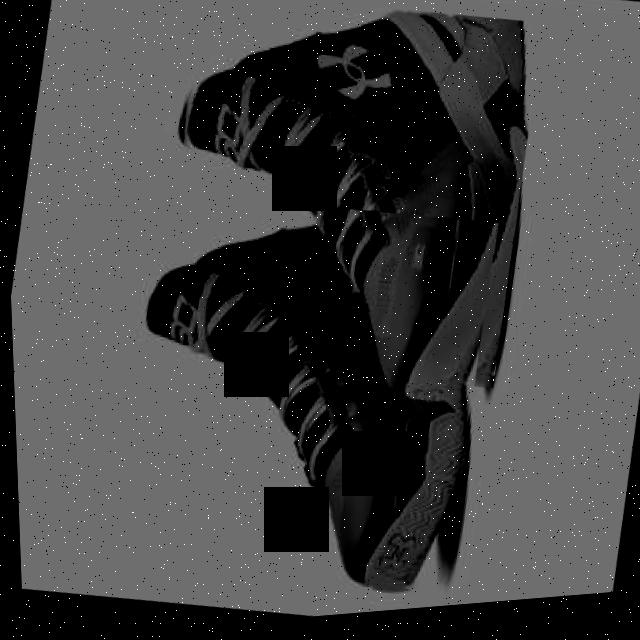shoe: (95, 172, 507, 623), (128, 0, 553, 432)
